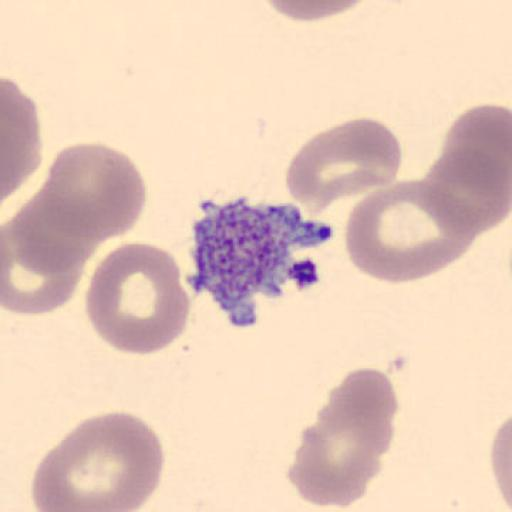Platelet: (186, 196, 334, 323)
RBC: (285, 366, 399, 510), (343, 179, 476, 284), (30, 411, 166, 511), (282, 116, 405, 218), (85, 240, 191, 358), (40, 141, 148, 245), (285, 416, 383, 508), (0, 217, 85, 315), (317, 366, 400, 462), (3, 191, 99, 273), (422, 148, 510, 234), (439, 102, 512, 203), (0, 74, 43, 205), (260, 0, 371, 23), (489, 413, 512, 512)
